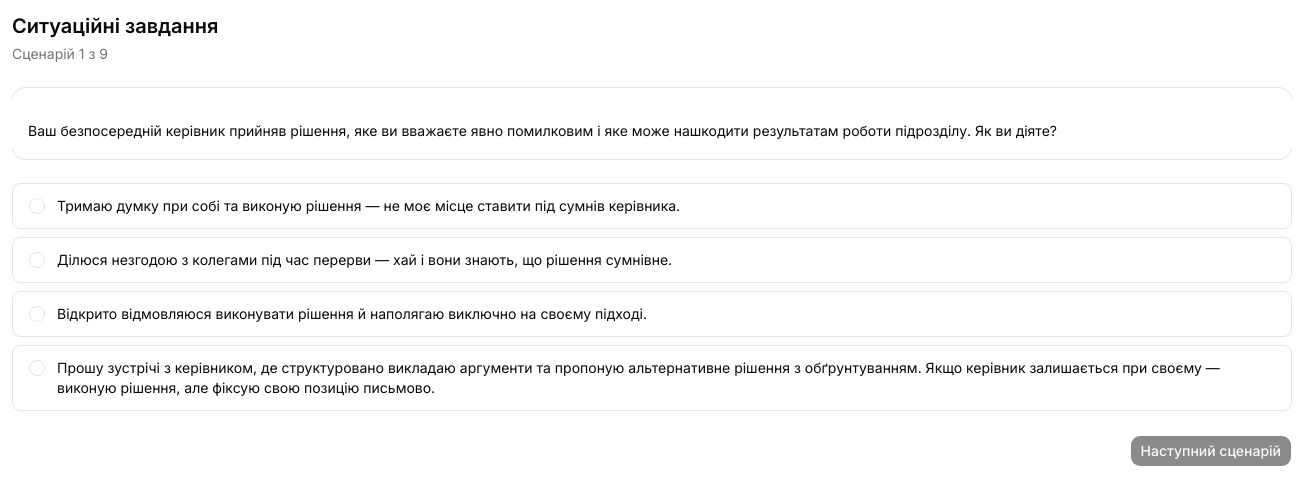
it: ScenariosBlock — option selection › enables Next button after selecting an option
The image size is (1304, 483).
What coordinates should you click on to do the following:
click the 1st radio button
I would click on:
 (37, 206)
Its box is x1=29 y1=198 x2=45 y2=214.
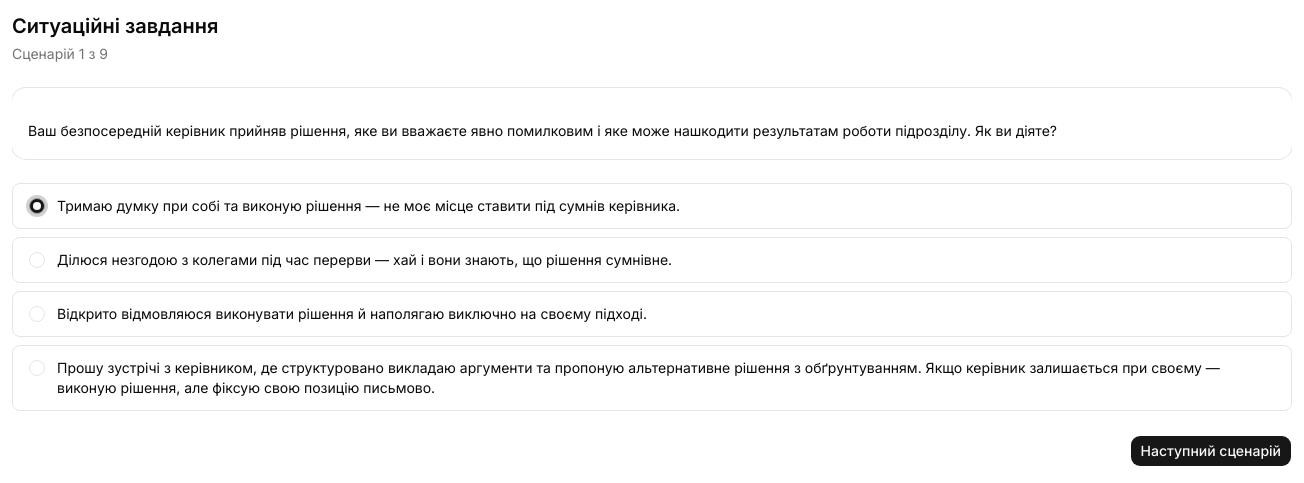
Result: the button "Наступний сценарій" is enabled at x1=1130 y1=435 x2=1292 y2=467
